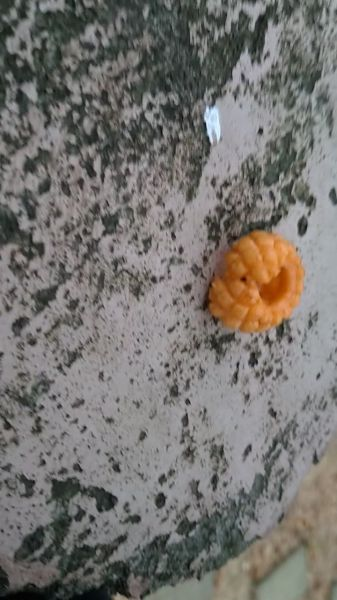eggs: (202, 228, 312, 329)
